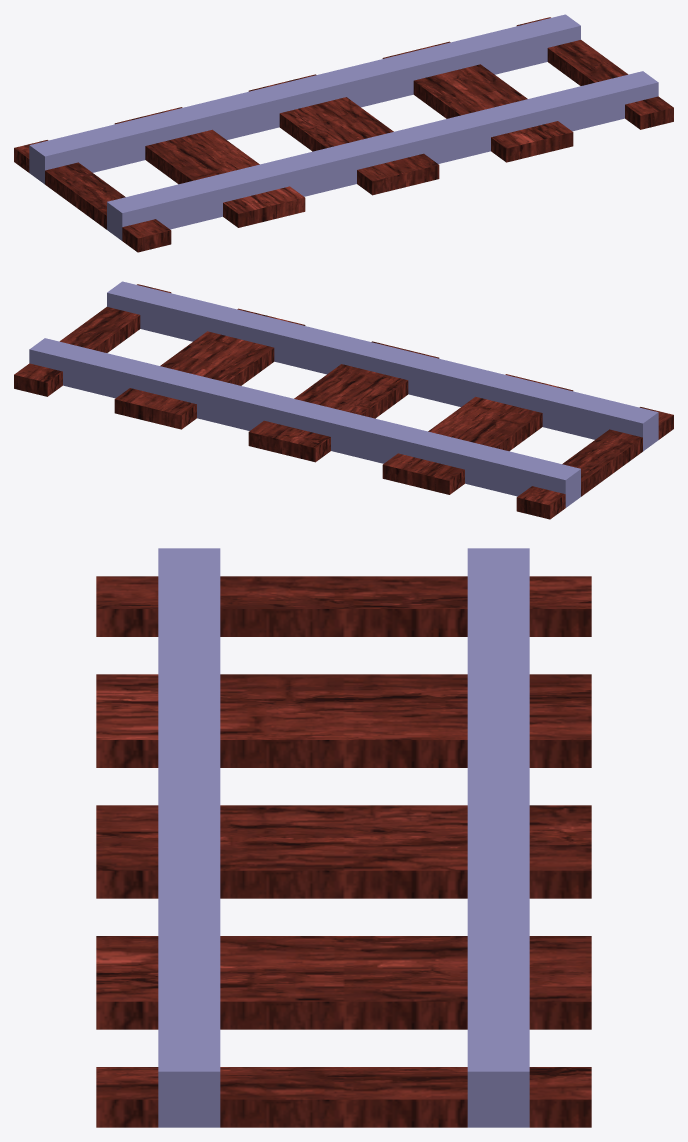
File: track-straight.glb
The picture shows the model from 3 angles, top to bottom: view 1: azimuth 30°, elevation 25°; view 2: azimuth 150°, elevation 25°; view 3: azimuth 270°, elevation 25°; orthographic projection. The views are drawn at different scales.
Visible parts, largest first — view 1: track_mineStraight; view 2: track_mineStraight; view 3: track_mineStraight.
Part boxes in pixels (x1,y1,x2,y2): track_mineStraight: (14,14,673,252); track_mineStraight: (14,281,673,519); track_mineStraight: (96,548,591,1127).
Bounding box in the file's own units: 1 × 0.05 × 0.4.
3 materials, 1 textured.
